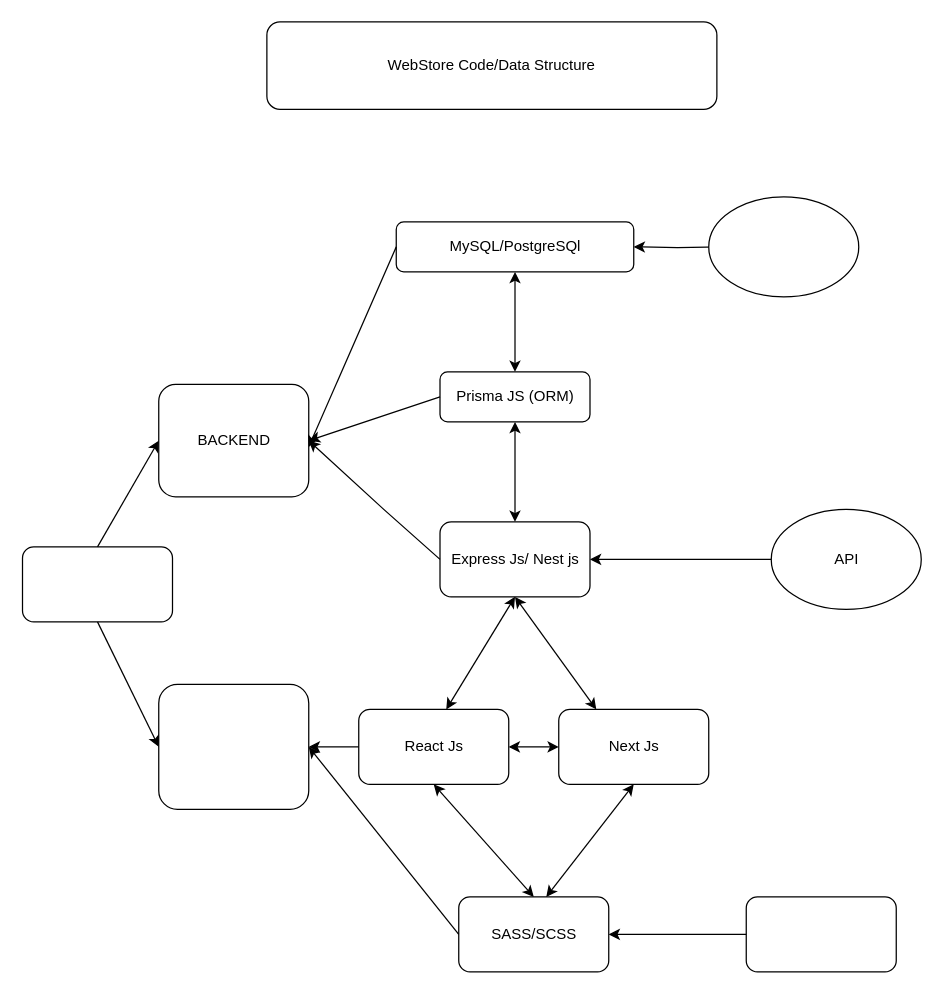
Some shapes in this 943 by 994 pixel diagram are drawn without their labels. The box of each missing label's shape, as (x1, y1, x2, y2) in pixels:
DataBase: (708, 196, 859, 297)
FRONTEND: (158, 683, 309, 809)
GitKraken (Git Management): (21, 546, 172, 622)
Styling: (745, 896, 896, 972)
